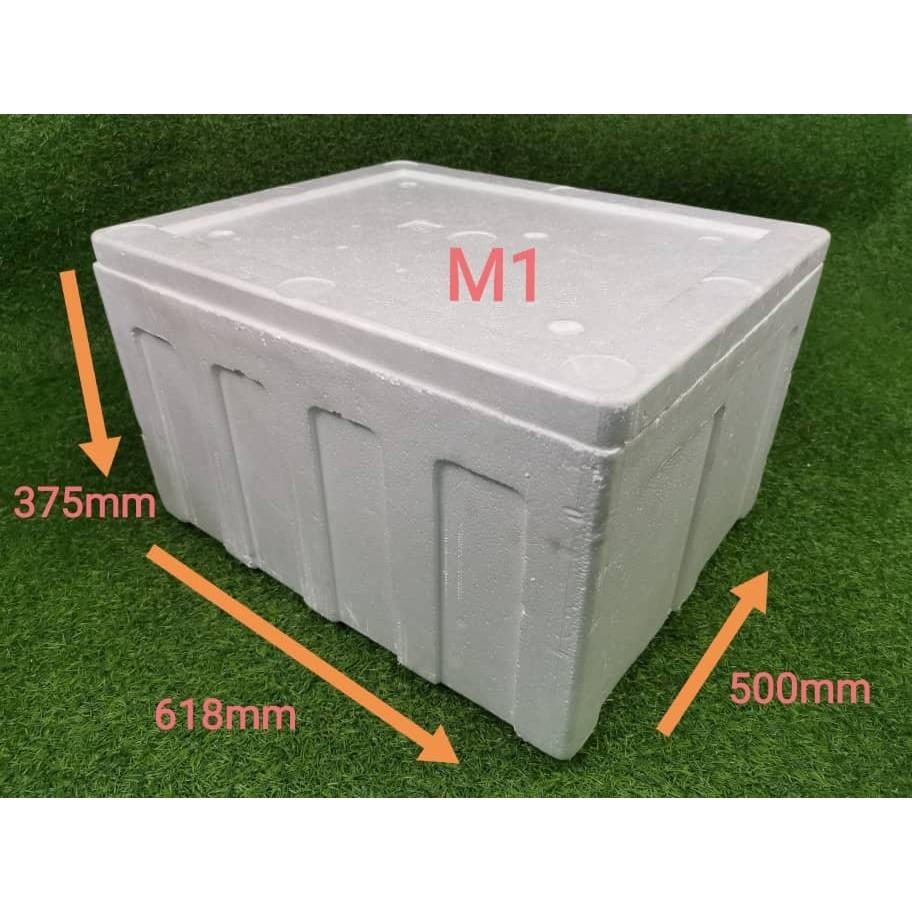Foam Box: (72, 146, 836, 767)
